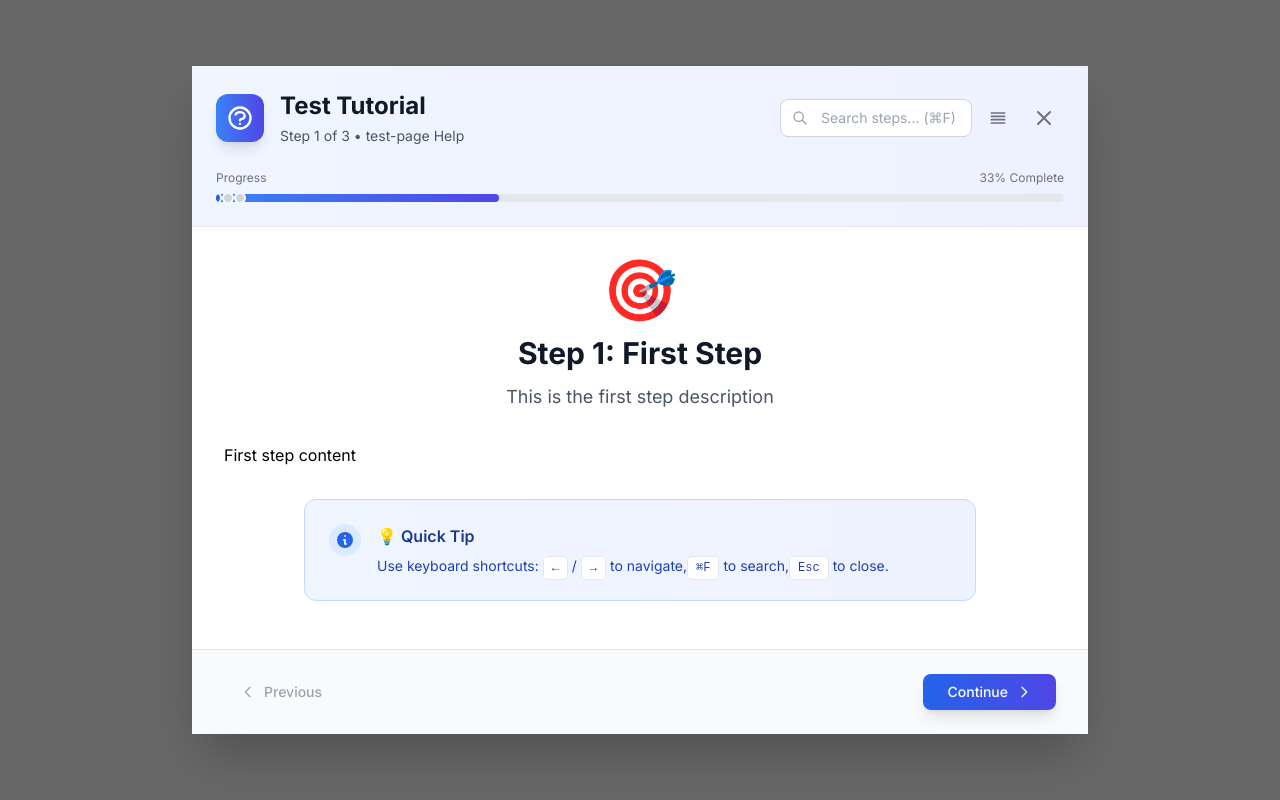
TutorialModal › should navigate through tutorial steps
Expected: the heading "Step 1: First Step" is shown, [518,335,762,371]
Expected: the text "First step content" is shown, [224,445,356,465]
Navigate to step 2 using "Continue" button
Click the button "Continue": x=990, y=692 [924,674,1056,710]
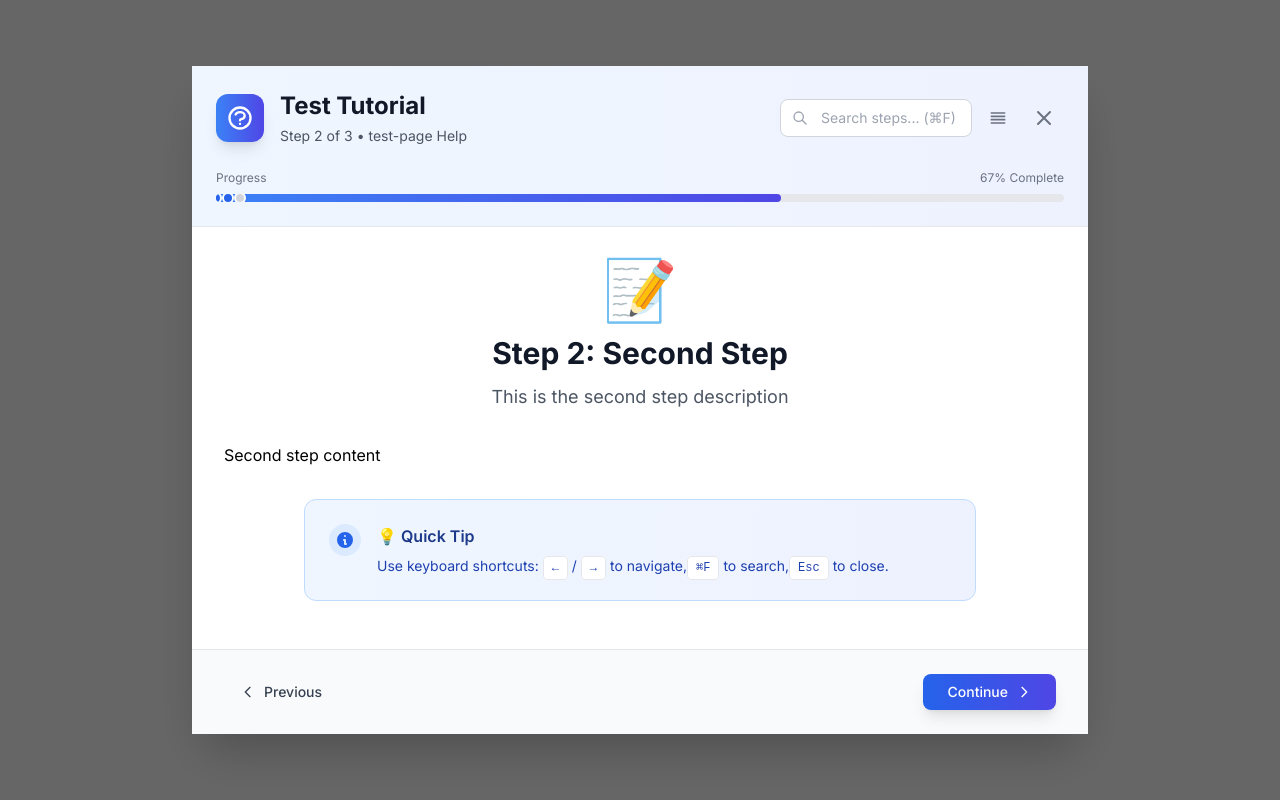
Expected: the heading "Step 2: Second Step" is shown, [492,335,788,371]
Expected: the text "Second step content" is shown, [224,445,380,465]
Navigate to final step
Click the button "Continue": x=990, y=692 [924,674,1056,710]
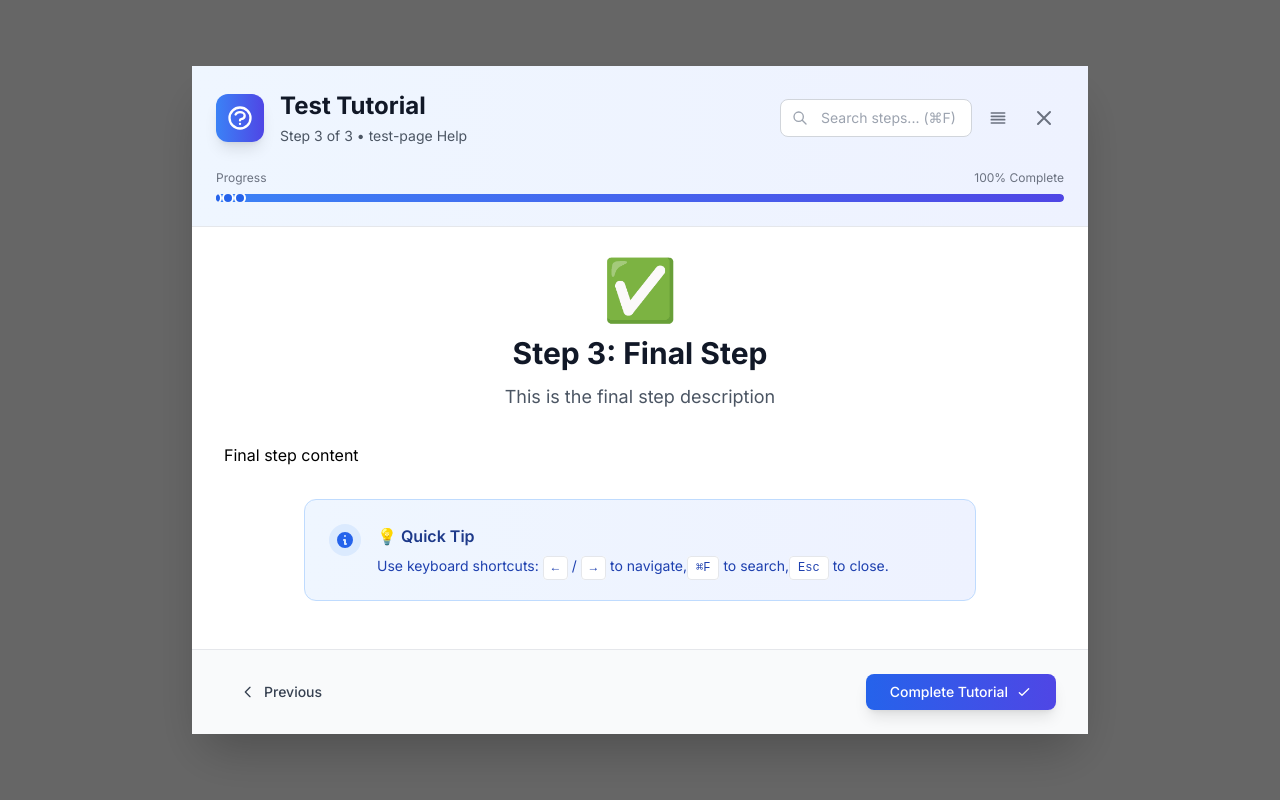
Expected: the heading "Step 3: Final Step" is shown, [512,335,767,371]
Expected: the button "Complete Tutorial" is shown, [866,674,1056,710]
